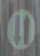Two way: (4, 8, 39, 50)
